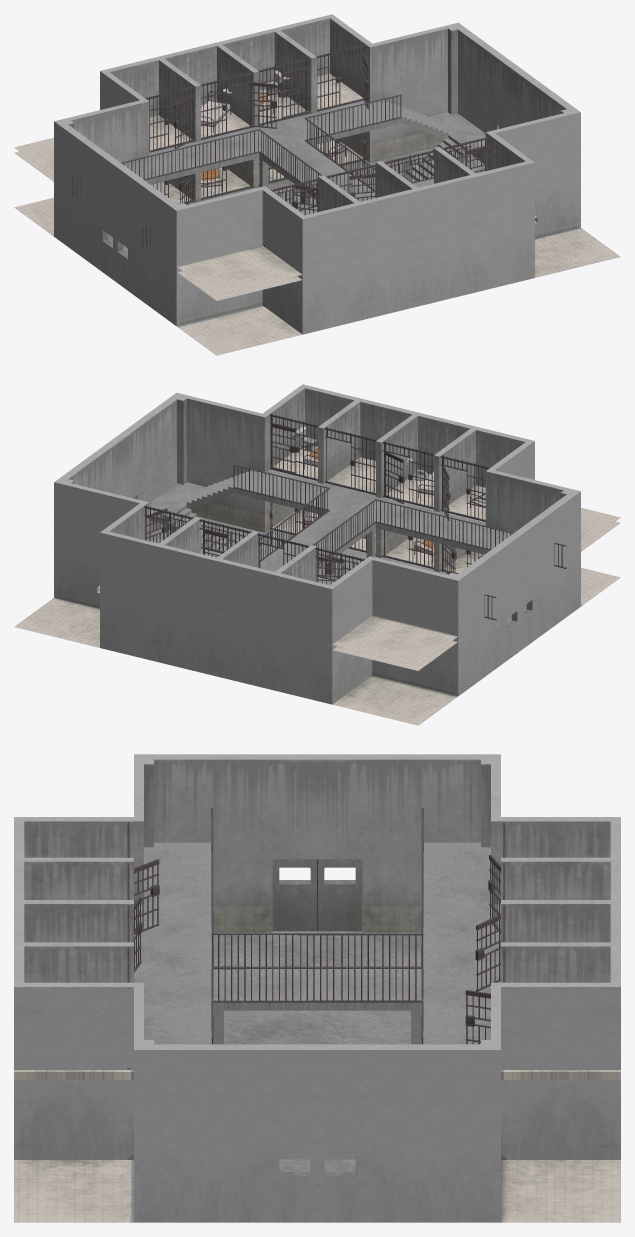
The model's file is theP.glb.
The picture shows the model from 3 angles, top to bottom: view 1: azimuth 30°, elevation 25°; view 2: azimuth 150°, elevation 25°; view 3: azimuth 270°, elevation 25°; orthographic projection. The views are drawn at different scales.
Parts seen in each view (by area): view 1: polySurface106, pCube22, pCube1, pCube18, polySurface115, polySurface125, polySurface72.007, polySurface72.003, polySurface72.004, polySurface72.005, door62628468, door.006 (+3 smaller); view 2: polySurface106, pCube22, pCube1, door62628468, pCube20, polySurface125, polySurface72.011, polySurface72.015, polySurface72.013, polySurface72.012, polySurface115, door.012 (+1 smaller); view 3: polySurface106, pCube22, pCube1, polySurface125, door.006, door.011, polySurface115, door62628468, pCube31, door626284.
Boxes of the visible parts, x1,y1,x2,y2 form: polySurface106: (54, 14, 580, 334); pCube22: (14, 73, 537, 300); pCube1: (14, 140, 620, 355); pCube18: (379, 100, 485, 181); polySurface115: (68, 94, 401, 198); polySurface125: (259, 118, 375, 194); polySurface72.007: (200, 72, 252, 139); polySurface72.003: (316, 44, 365, 111); polySurface72.004: (145, 86, 194, 152); polySurface72.005: (258, 58, 310, 125); door62628468: (138, 146, 471, 250); door.006: (249, 82, 276, 128); polySurface106: (54, 384, 580, 704); pCube22: (97, 444, 620, 670); pCube1: (14, 510, 620, 725); door62628468: (233, 464, 566, 568); pCube20: (149, 470, 255, 551); polySurface125: (259, 488, 376, 564); polySurface72.011: (325, 427, 377, 495); polySurface72.015: (383, 441, 434, 509); polySurface72.013: (270, 414, 318, 480); polySurface72.012: (441, 455, 496, 521); polySurface115: (164, 515, 496, 620); door.012: (271, 424, 295, 473); polySurface106: (14, 754, 620, 1222); pCube22: (14, 842, 620, 1079); pCube1: (14, 931, 620, 1222); polySurface125: (211, 933, 423, 1002); door.006: (475, 914, 500, 991); door.011: (134, 859, 159, 934); polySurface115: (421, 808, 423, 1044); door62628468: (211, 808, 213, 1044); pCube31: (214, 1010, 420, 1044); door626284: (465, 990, 490, 1044).
Size of what is drawn, in the model's own units: 21.51 by 5.82 by 18.14.
Materials: 3 (3 with a texture image).
